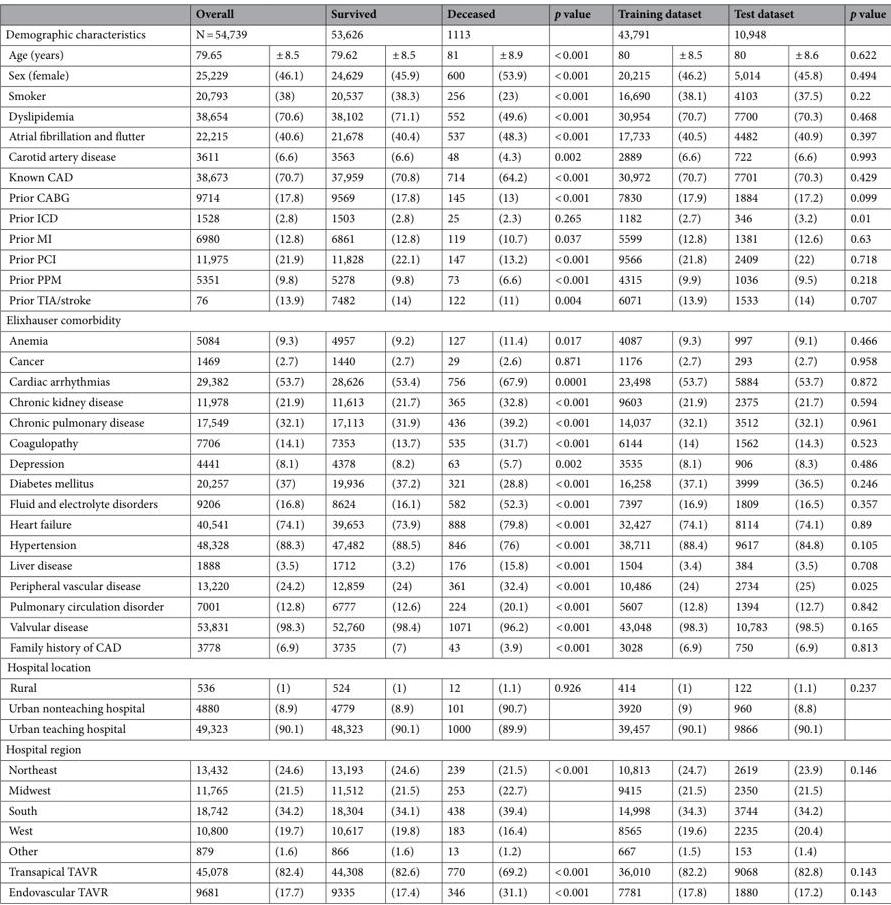table: (5, 4, 885, 900)
table column: (5, 4, 179, 900), (179, 4, 251, 900), (251, 4, 317, 900), (540, 4, 603, 900), (603, 4, 664, 900), (317, 4, 377, 900), (720, 4, 780, 900), (377, 4, 433, 900), (484, 4, 540, 900), (664, 4, 720, 900), (780, 4, 836, 900), (433, 4, 484, 900), (836, 4, 885, 900)
table column header: (5, 4, 885, 23)
table projected row header: (5, 309, 885, 330), (5, 656, 885, 677), (5, 738, 885, 758)
table row: (5, 23, 885, 44), (5, 84, 885, 105), (5, 125, 885, 146), (5, 166, 885, 187), (5, 227, 885, 248), (5, 268, 885, 289), (5, 309, 885, 330), (5, 370, 885, 391), (5, 411, 885, 432), (5, 452, 885, 473), (5, 513, 885, 534), (5, 554, 885, 575), (5, 595, 885, 616), (5, 656, 885, 677), (5, 697, 885, 718), (5, 758, 885, 779), (5, 799, 885, 820), (5, 840, 885, 861), (5, 44, 885, 64), (5, 64, 885, 84), (5, 105, 885, 125), (5, 146, 885, 166), (5, 187, 885, 207), (5, 207, 885, 227), (5, 248, 885, 268), (5, 289, 885, 309), (5, 330, 885, 350), (5, 350, 885, 370), (5, 391, 885, 411), (5, 432, 885, 452), (5, 473, 885, 493), (5, 493, 885, 513), (5, 534, 885, 554), (5, 575, 885, 595), (5, 616, 885, 636), (5, 636, 885, 656), (5, 677, 885, 697), (5, 718, 885, 738), (5, 738, 885, 758), (5, 779, 885, 799), (5, 820, 885, 840), (5, 861, 885, 881), (5, 4, 885, 23), (5, 881, 885, 900)
table spanning cell: (179, 23, 317, 44), (179, 4, 317, 23), (603, 23, 720, 44), (317, 23, 433, 44), (720, 23, 836, 44), (433, 23, 540, 44), (603, 4, 720, 23), (317, 4, 433, 23), (720, 4, 836, 23), (433, 4, 540, 23)
